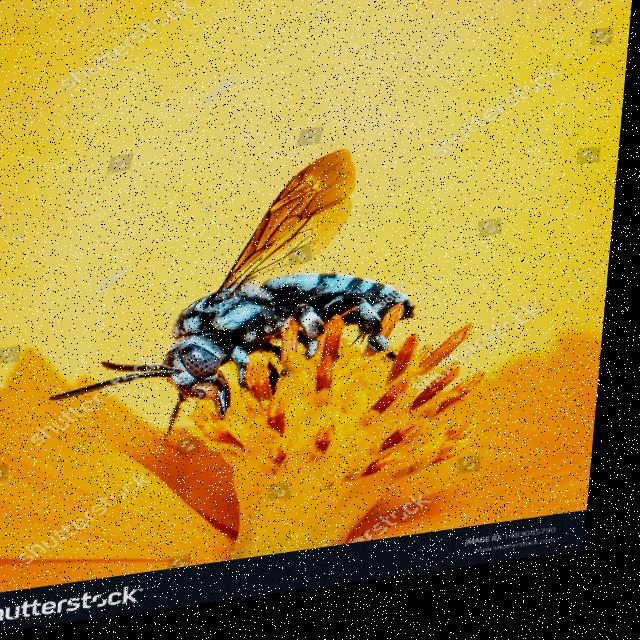Thyreus: (46, 147, 440, 468)
